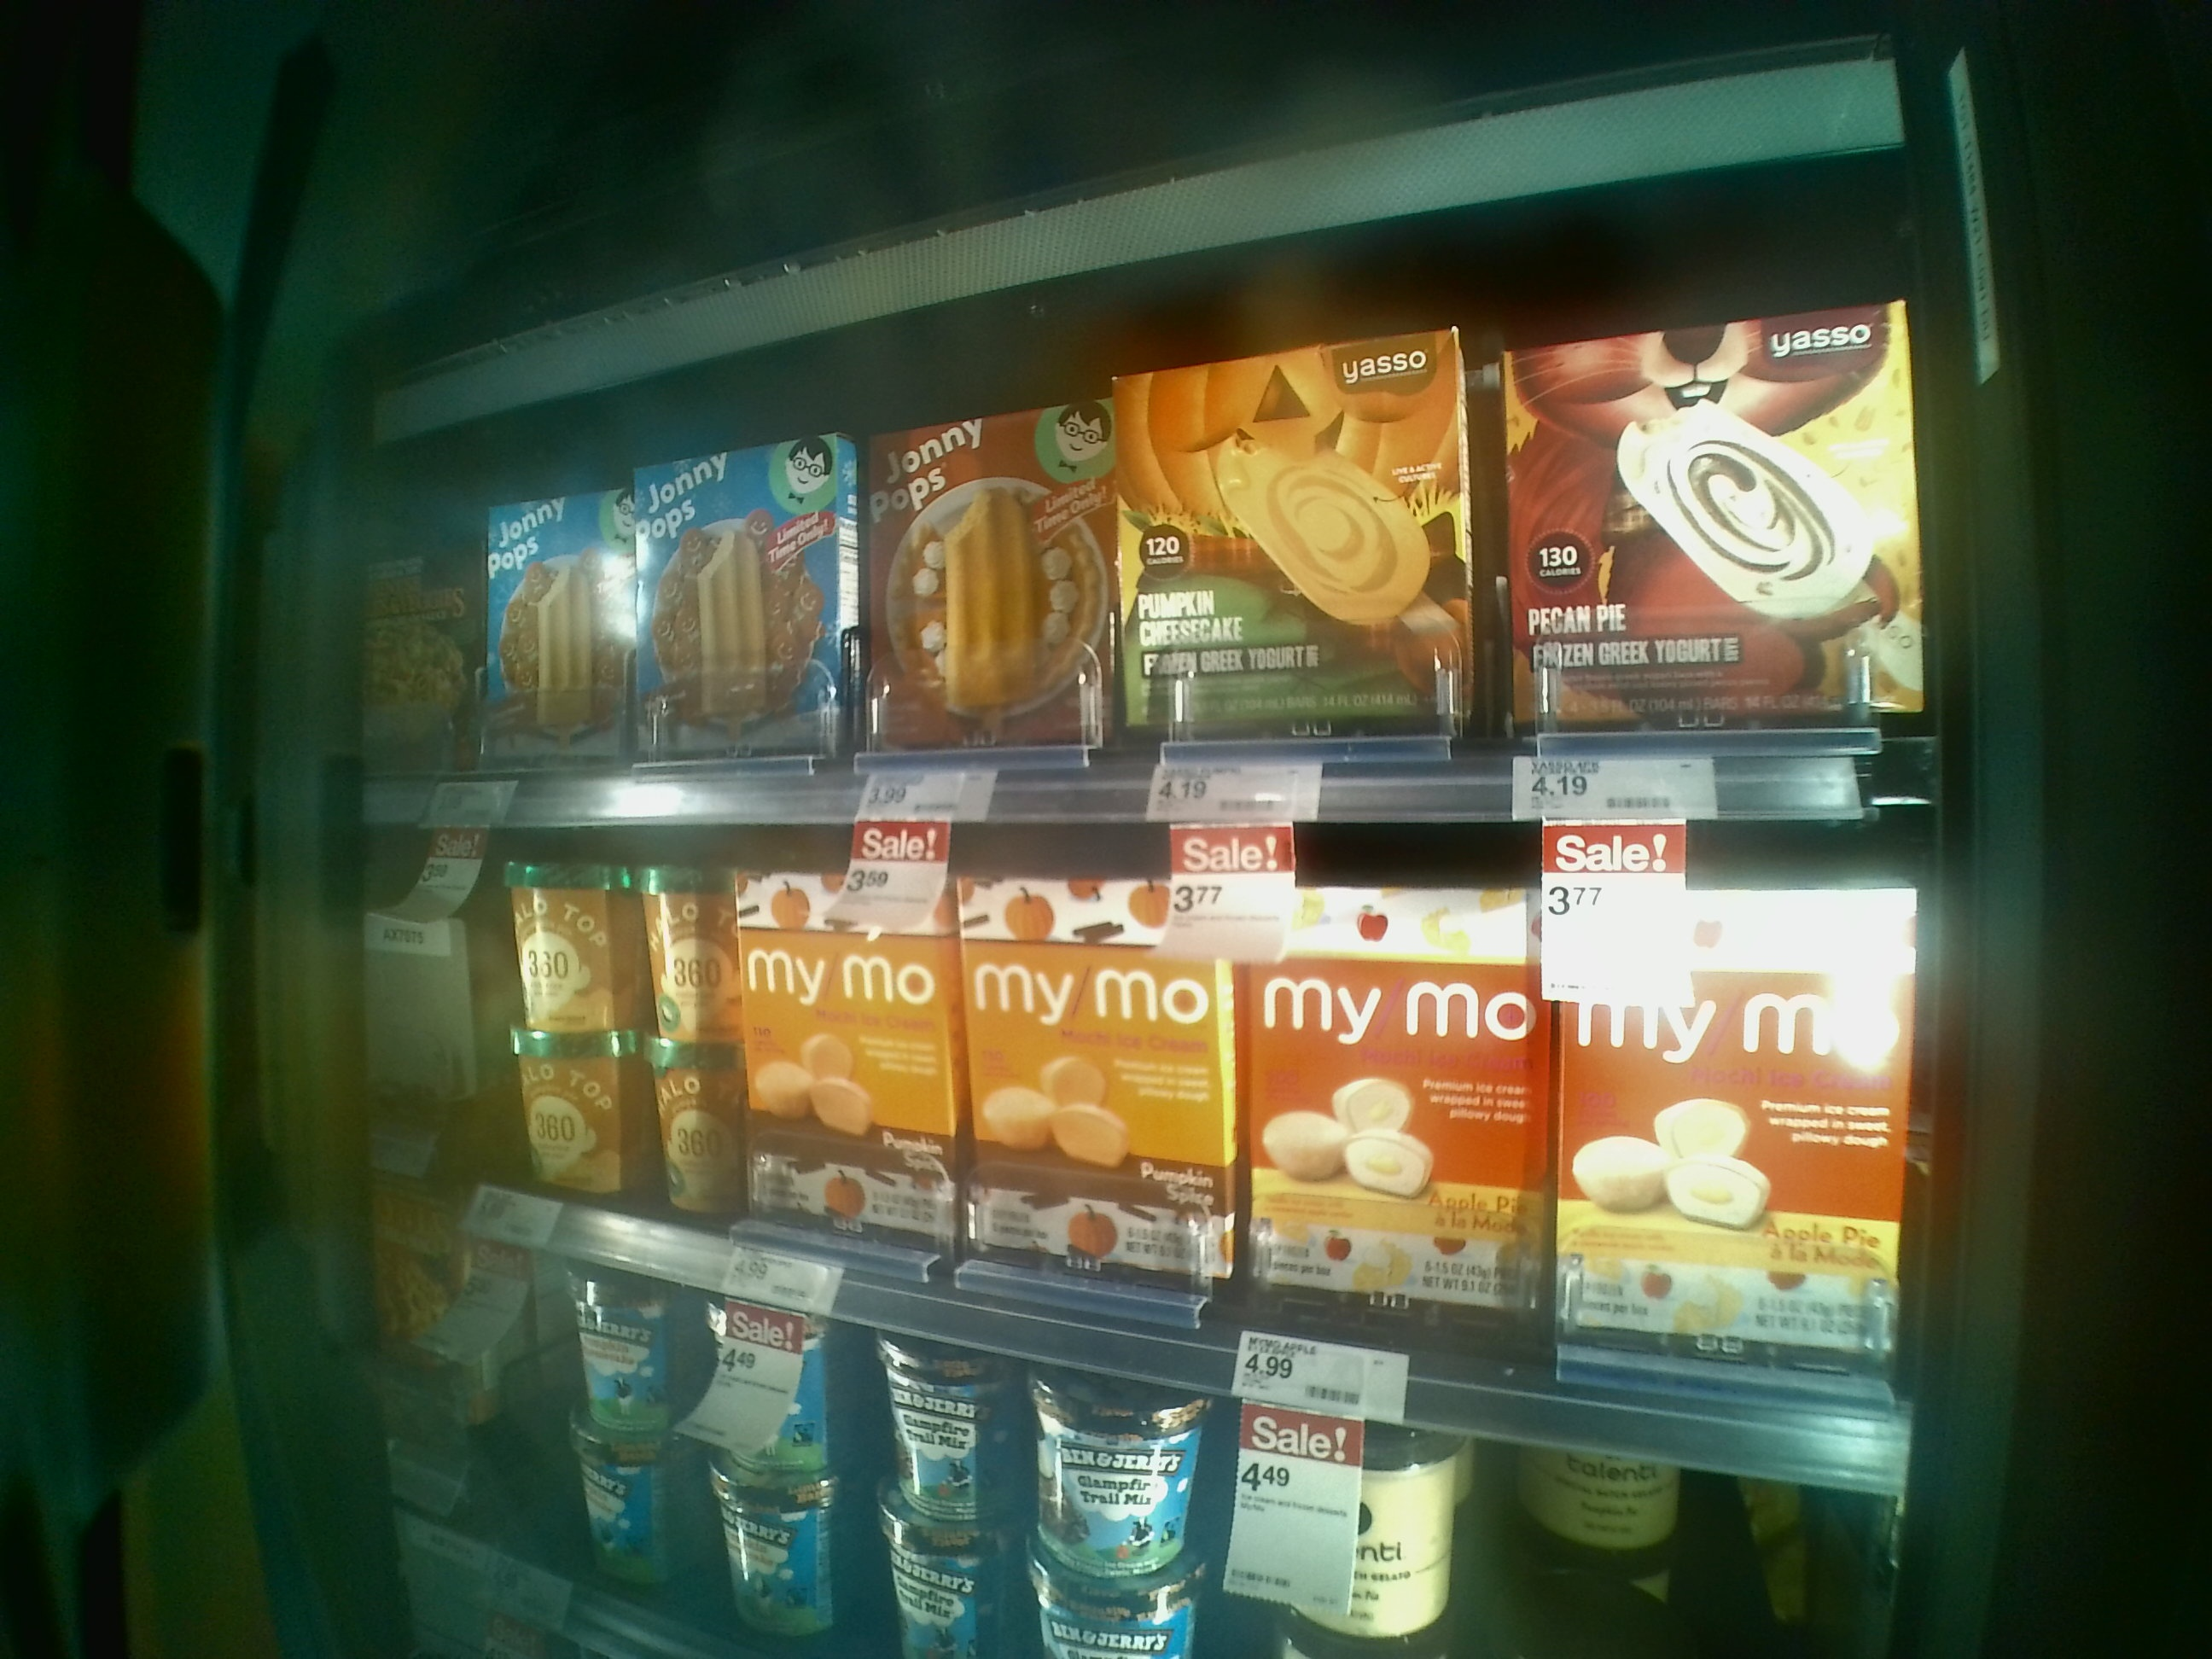shelf: (350, 786, 1928, 1490), (364, 295, 1944, 817)
